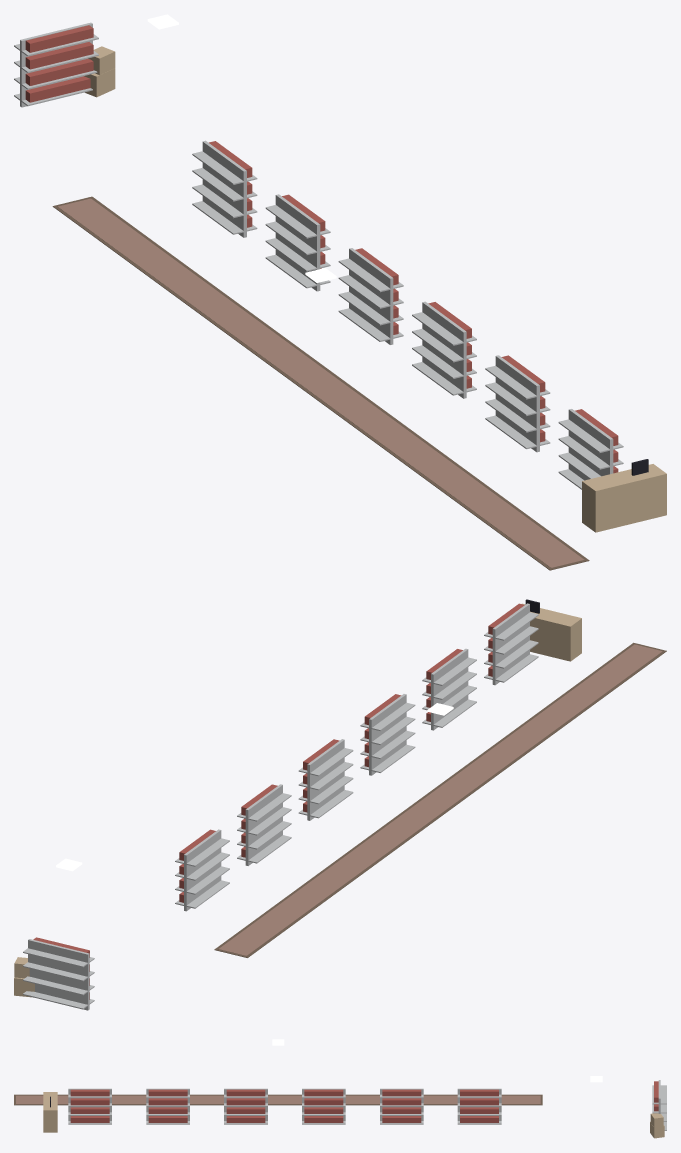
Rendered from fine-s0.glb.
3 renders of one model, top to bottom at view 1: azimuth 30°, elevation 25°; view 2: azimuth 150°, elevation 25°; view 3: azimuth 270°, elevation 25°, orthographic. The views are drawn at different scales.
Parts seen in each view (by area): view 1: soft-s0, shelving.000, shop-counter.000, shelf.004, shelf.000, shelf.002, shelf.003, shelf.001, shelf.005, cardboard-box.000; view 2: soft-s0, shelving.000, shelf.000, shelf.003, shelf.005, shelf.002, shelf.001, shelf.004, shop-counter.000; view 3: soft-s0, shelf.000, shelf.001, shelf.002, shelf.003, shelf.004, shelf.005, shop-counter.000, shelving.000, cardboard-box.000.
Part boxes in pixels (x1,y1,x2,y2): soft-s0: (52, 196, 589, 570); shelving.000: (14, 22, 98, 107); shop-counter.000: (582, 459, 666, 532); shelf.004: (485, 355, 550, 452); shelf.000: (192, 140, 257, 237); shelf.002: (338, 248, 403, 344); shelf.003: (412, 301, 476, 398); shelf.001: (265, 194, 330, 291); shelf.005: (558, 409, 623, 489); cardboard-box.000: (84, 46, 115, 97); soft-s0: (214, 642, 666, 957); shelving.000: (23, 937, 94, 1010); shelf.000: (175, 829, 229, 911); shelf.003: (360, 694, 415, 775); shelf.005: (484, 603, 538, 685); shelf.002: (298, 739, 353, 820); shelf.001: (237, 784, 291, 865); shelf.004: (422, 648, 476, 730); shop-counter.000: (522, 599, 581, 661); soft-s0: (14, 1094, 542, 1105); shelf.000: (457, 1088, 501, 1124); shelf.001: (380, 1088, 423, 1124); shelf.002: (302, 1088, 345, 1124); shelf.003: (224, 1088, 267, 1124); shelf.004: (146, 1088, 189, 1124); shelf.005: (68, 1088, 111, 1124); shop-counter.000: (43, 1092, 57, 1132); shelving.000: (652, 1080, 666, 1130); cardboard-box.000: (650, 1113, 664, 1138).
Bounding box in the file's own units: 4.32 × 2.64 × 26.83.
